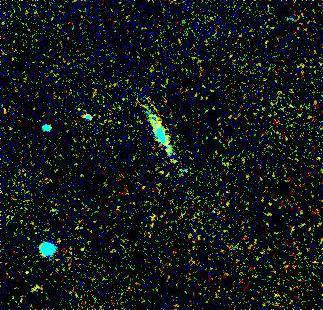star: (157, 146, 187, 176)
